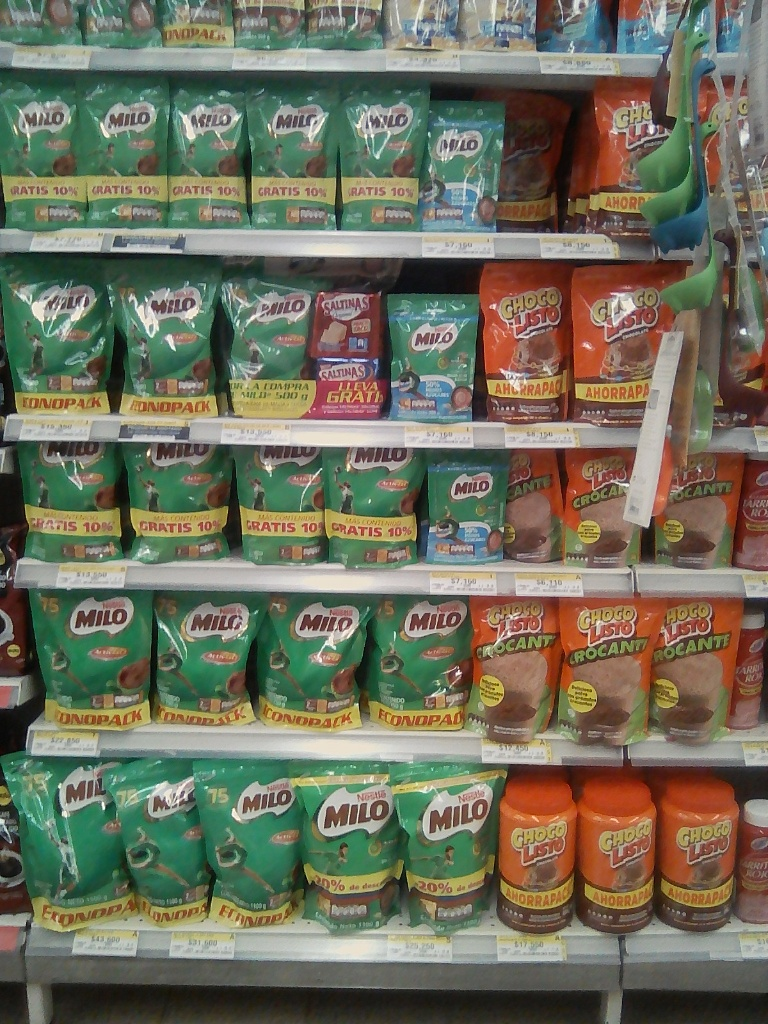COL0170102DYP25000: (498, 449, 566, 565)
COL0170102DYP50000: (469, 590, 561, 742)
COL0170103DYP44000: (478, 262, 573, 427)
COL0170103TRR00100: (494, 771, 579, 931)
COL0170203DYP50000: (224, 267, 312, 414)
COL0170205DYP20000: (389, 291, 478, 425)
